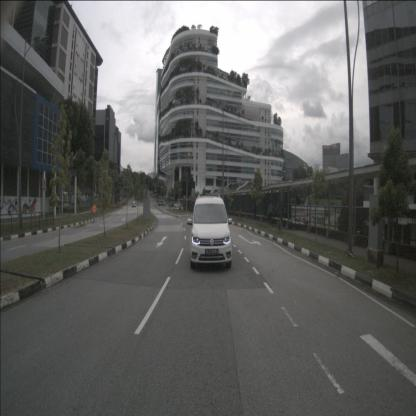human-pedestrian-adult: (267, 199, 275, 227), (280, 202, 285, 226), (254, 203, 259, 219), (252, 202, 256, 220)
vehicle-car: (190, 194, 232, 268), (52, 196, 63, 206), (60, 192, 70, 201), (79, 194, 87, 203), (173, 202, 182, 209), (158, 200, 166, 207)
